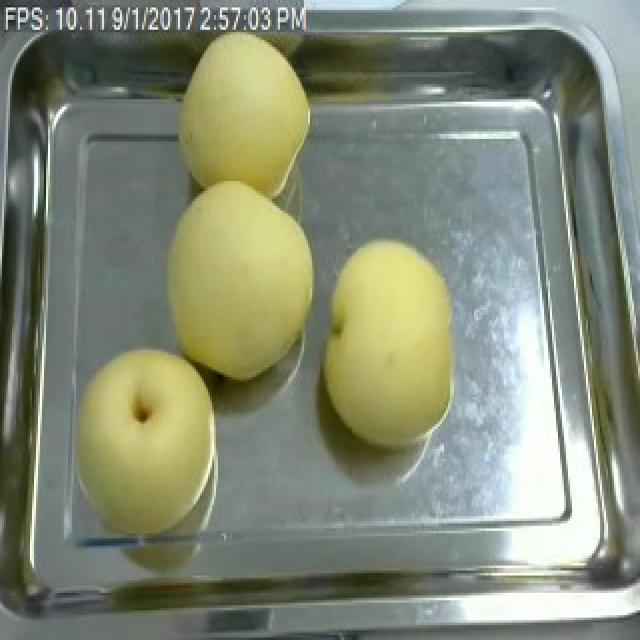Fruit: (302, 228, 470, 454), (154, 173, 328, 390), (62, 338, 228, 544), (168, 22, 320, 201)
